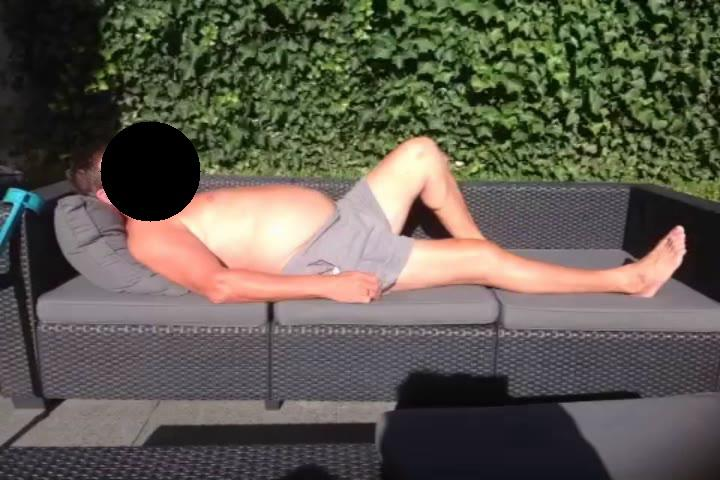lower_body: (319, 137, 689, 303)
